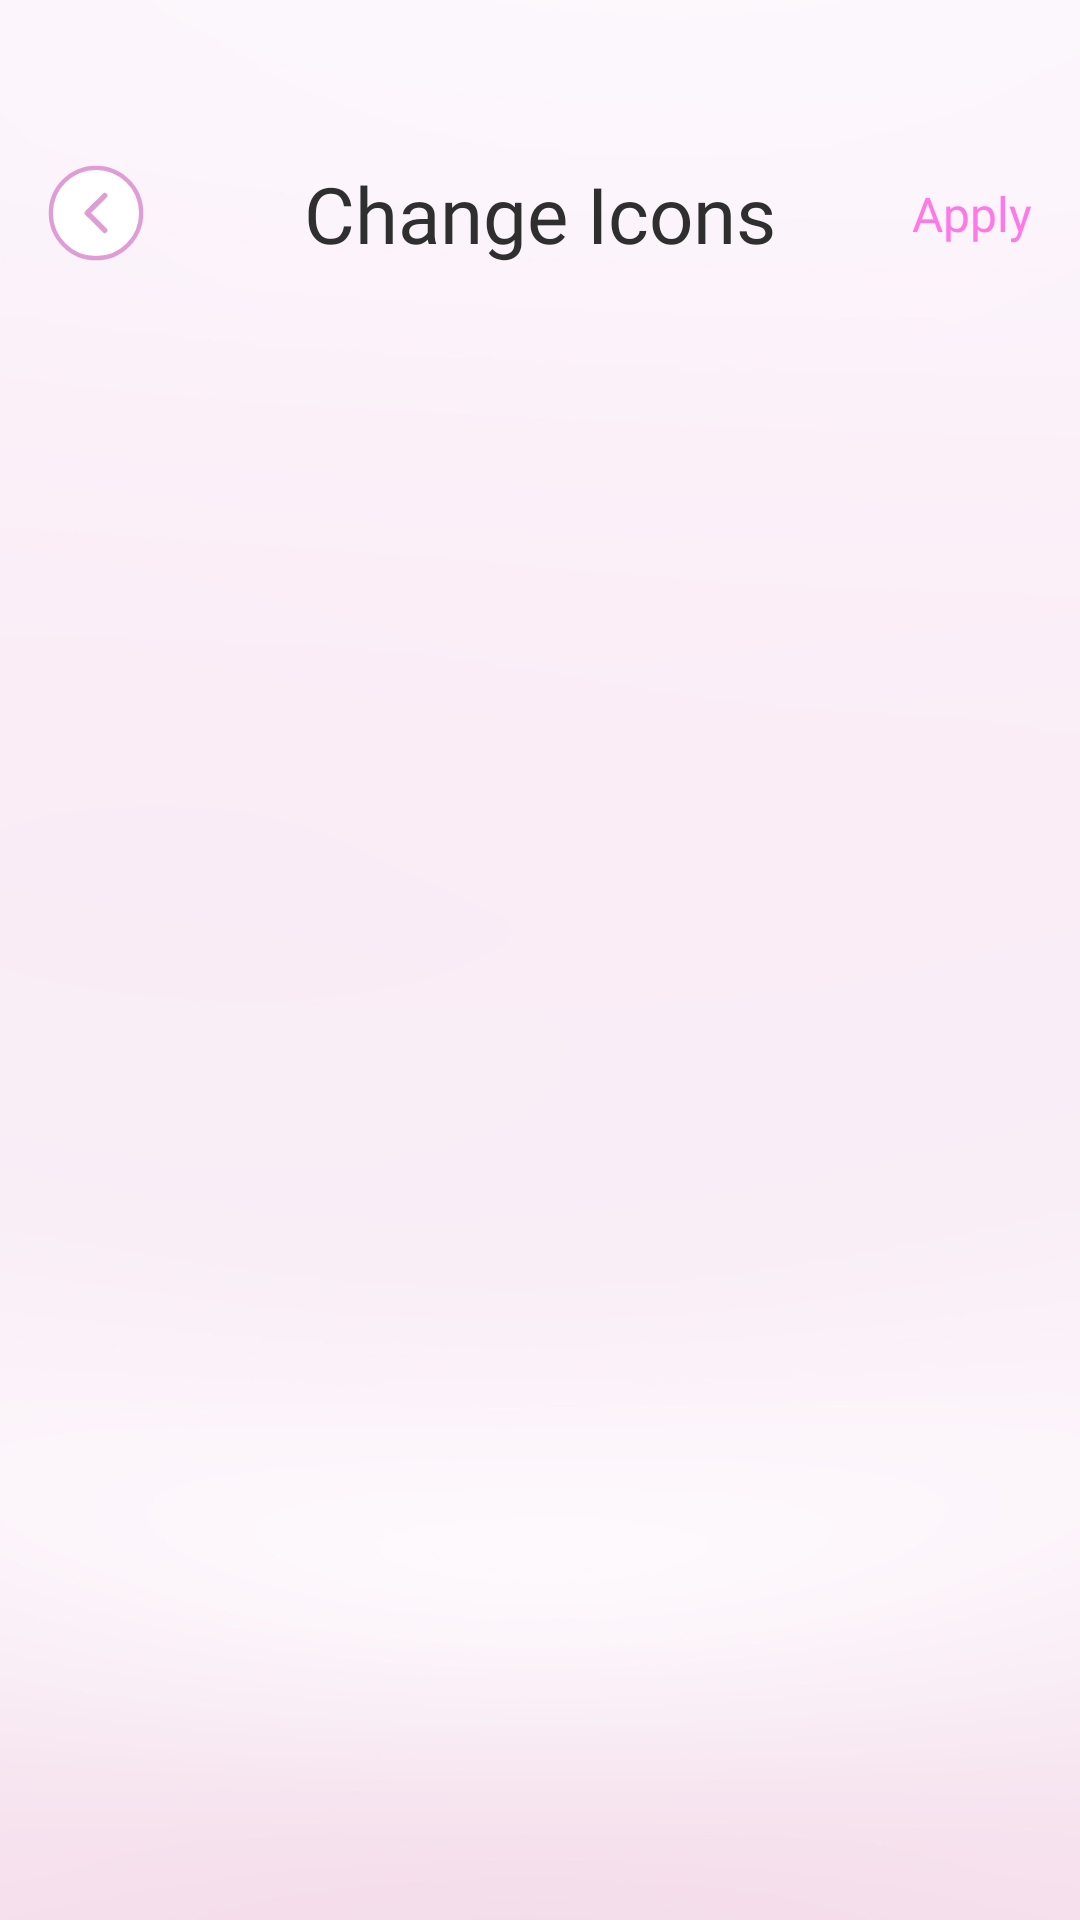

Where to tap for icons on this 1080px x 1920px app screen, as (x=x, y=y):
imv back: (x=96, y=213)
